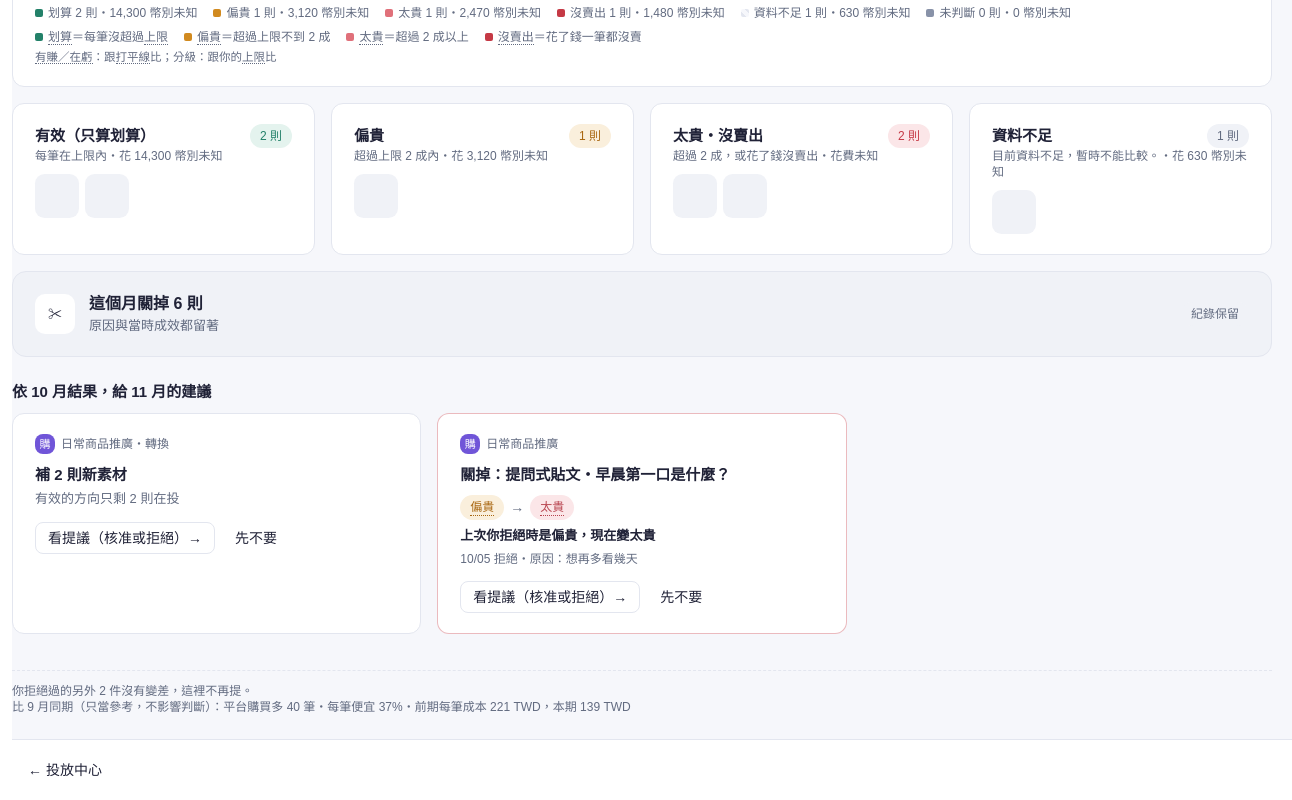
it: MonthReviewPage — current month › uses the flow verbs on suggestions, and 先不要 dismisses one for the month
(page scrolled)
Click the button "先不要" below "有效的方向只剩 2 則在投" at coordinates (256, 538), box [223,522,289,554]
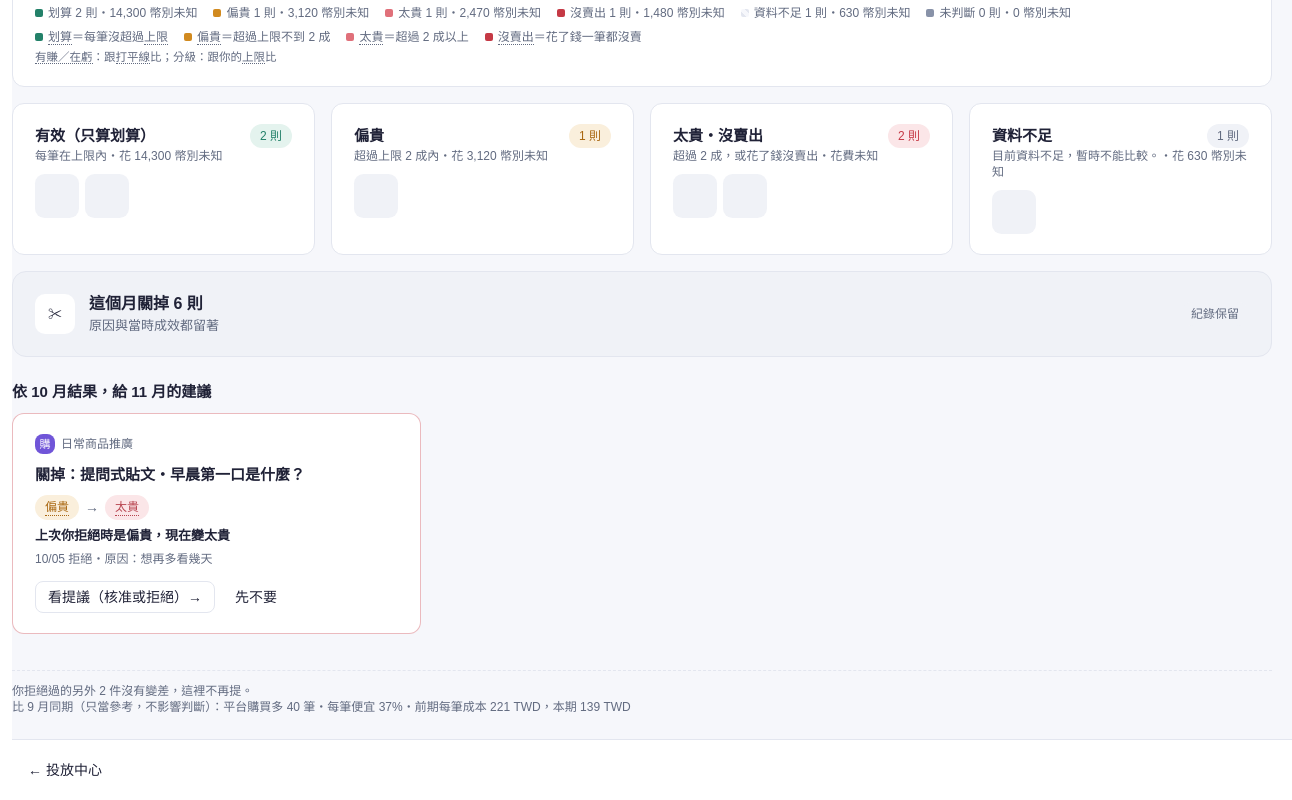
Now the text "補 2 則新素材" is gone
